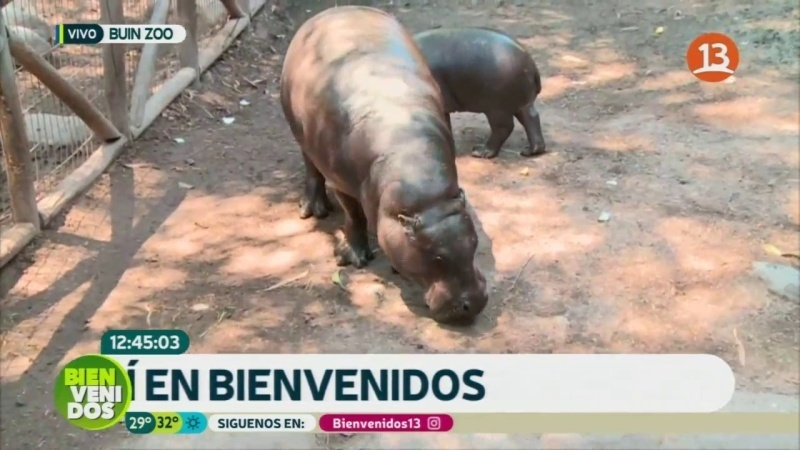hipopotamo: (270, 1, 507, 334), (399, 17, 562, 173)
